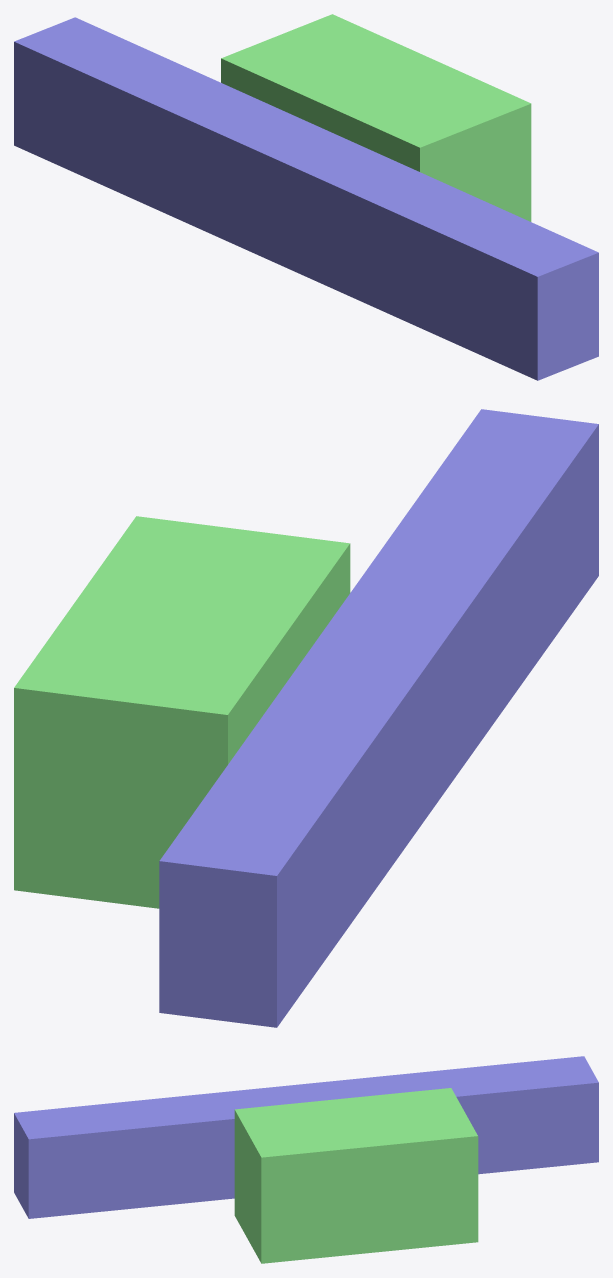
3 renders of one model, top to bottom at view 1: azimuth 30°, elevation 25°; view 2: azimuth 150°, elevation 25°; view 3: azimuth 270°, elevation 25°, orthographic. The views are drawn at different scales.
Visible parts, largest first — view 1: RC-CI-base_LINK, RC-CI-base_LINK.001; view 2: RC-CI-base_LINK, RC-CI-base_LINK.001; view 3: RC-CI-base_LINK, RC-CI-base_LINK.001.
Part boxes in pixels (left/top/right/bottom): RC-CI-base_LINK: left=14, top=17, right=598, bottom=380; RC-CI-base_LINK.001: left=221, top=14, right=531, bottom=221; RC-CI-base_LINK: left=159, top=409, right=598, bottom=1027; RC-CI-base_LINK.001: left=14, top=516, right=350, bottom=908; RC-CI-base_LINK: left=14, top=1056, right=598, bottom=1218; RC-CI-base_LINK.001: left=234, top=1088, right=478, bottom=1263.
Size of the model in its own units: 0.0927 by 0.04 by 0.1997.
